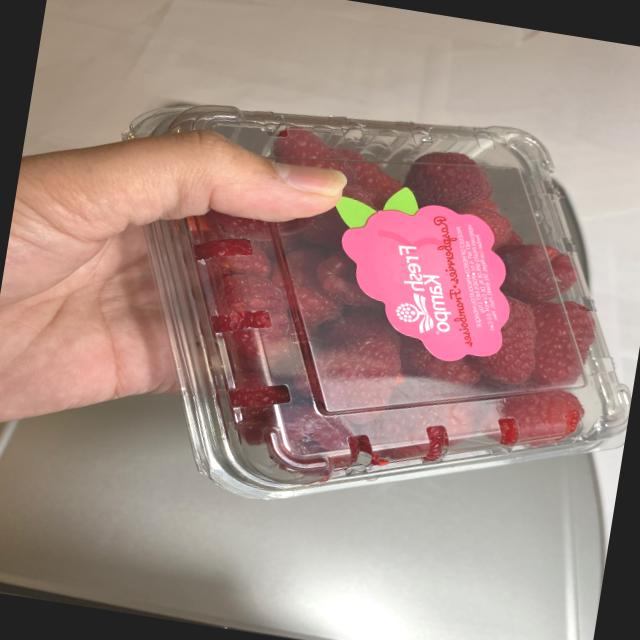raspberries: (213, 111, 640, 500)
